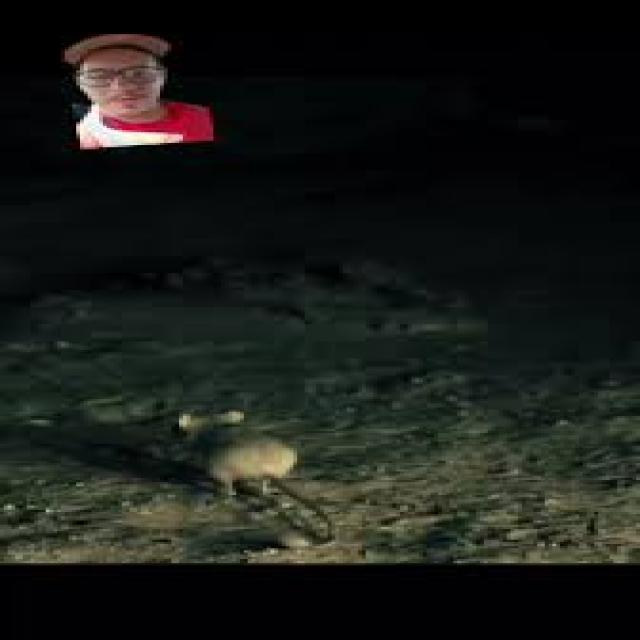Rat: (134, 361, 320, 525)
